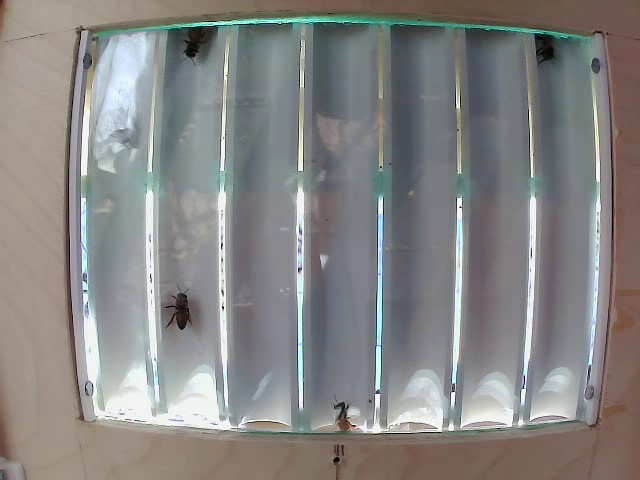bee: (158, 277, 205, 329), (173, 22, 218, 63), (536, 22, 563, 75)
